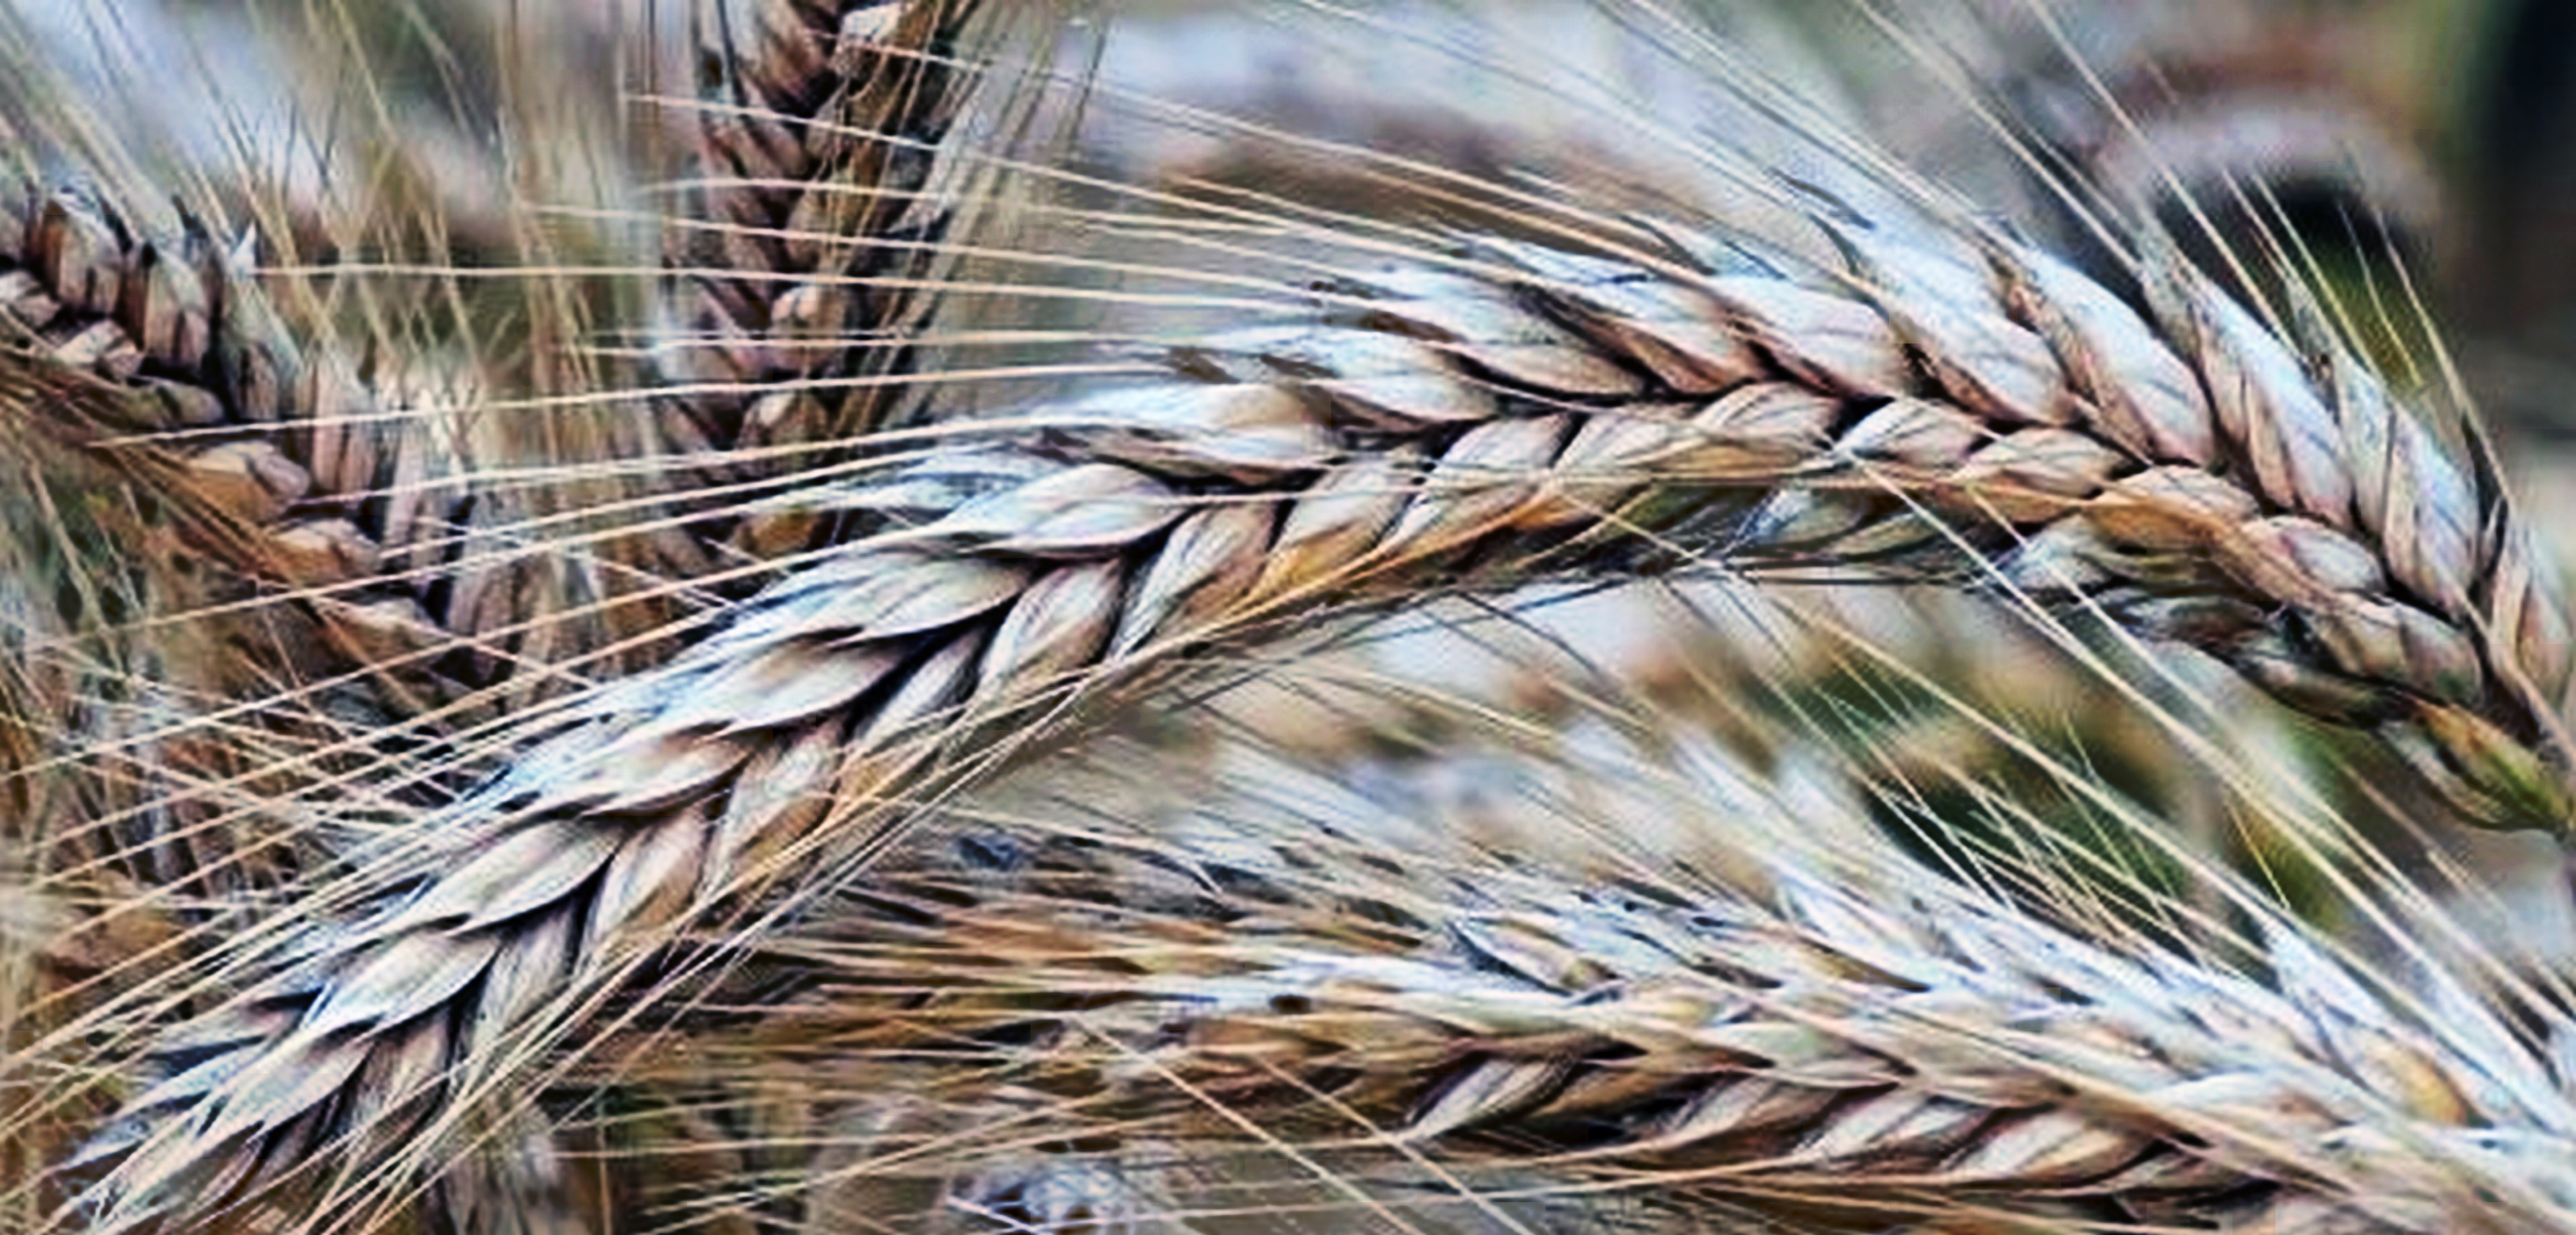Healthy Wheat: (1250, 172, 2546, 719)
